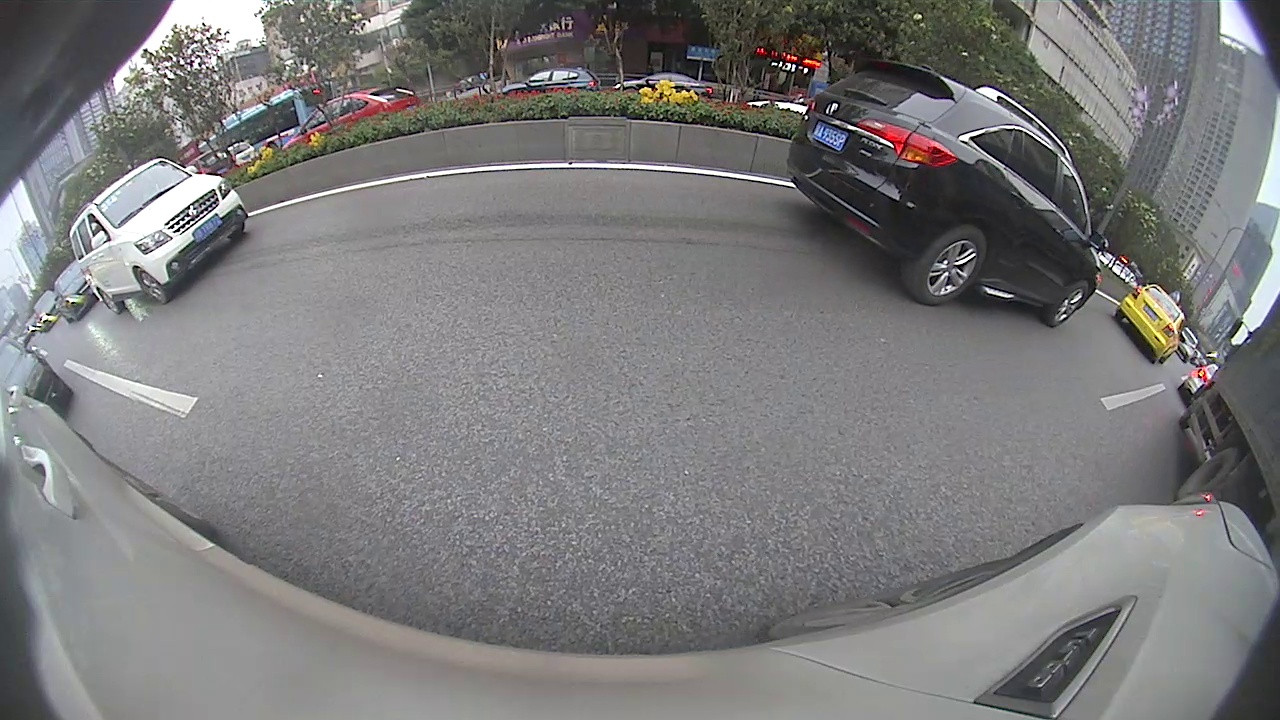car: (786, 59, 1103, 329), (67, 158, 249, 316), (1112, 282, 1185, 365)
front: (1047, 278, 1090, 328), (137, 269, 167, 304)
rear: (907, 227, 990, 302), (96, 289, 121, 316)
